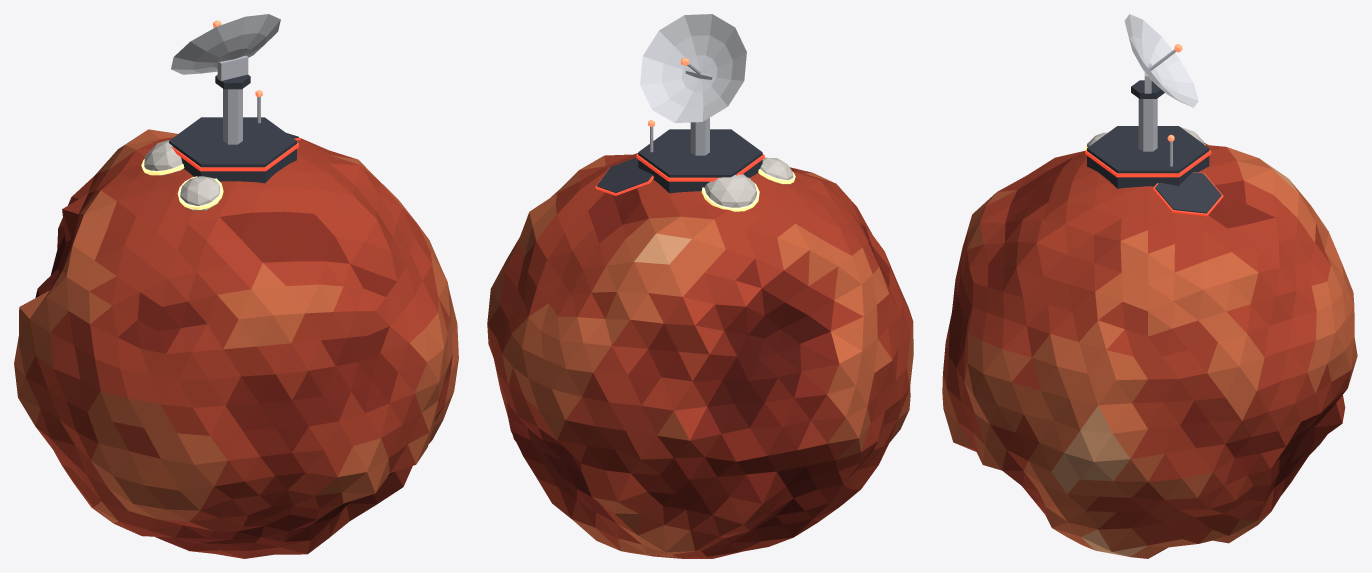
The model's file is planet-radar.glb.
3 renders of one model, left to right at view 1: azimuth 30°, elevation 25°; view 2: azimuth 150°, elevation 25°; view 3: azimuth 270°, elevation 25°, orthographic. The views are drawn at different scales.
Visible parts, largest first — view 1: Planet, RadarBase, RadarDish; view 2: Planet, RadarBase, RadarDish; view 3: Planet, RadarBase, RadarDish.
Boxes of the visible parts, x1,y1,x2,y2 form: Planet: (14,129,458,558); RadarBase: (141,74,300,210); RadarDish: (171,14,280,81); Planet: (487,153,913,558); RadarBase: (595,118,795,211); RadarDish: (640,14,746,122); Planet: (942,143,1357,558); RadarBase: (1084,80,1223,216); RadarDish: (1124,14,1198,107).
Size of the model in its own units: 6.28 by 8.35 by 6.11.
